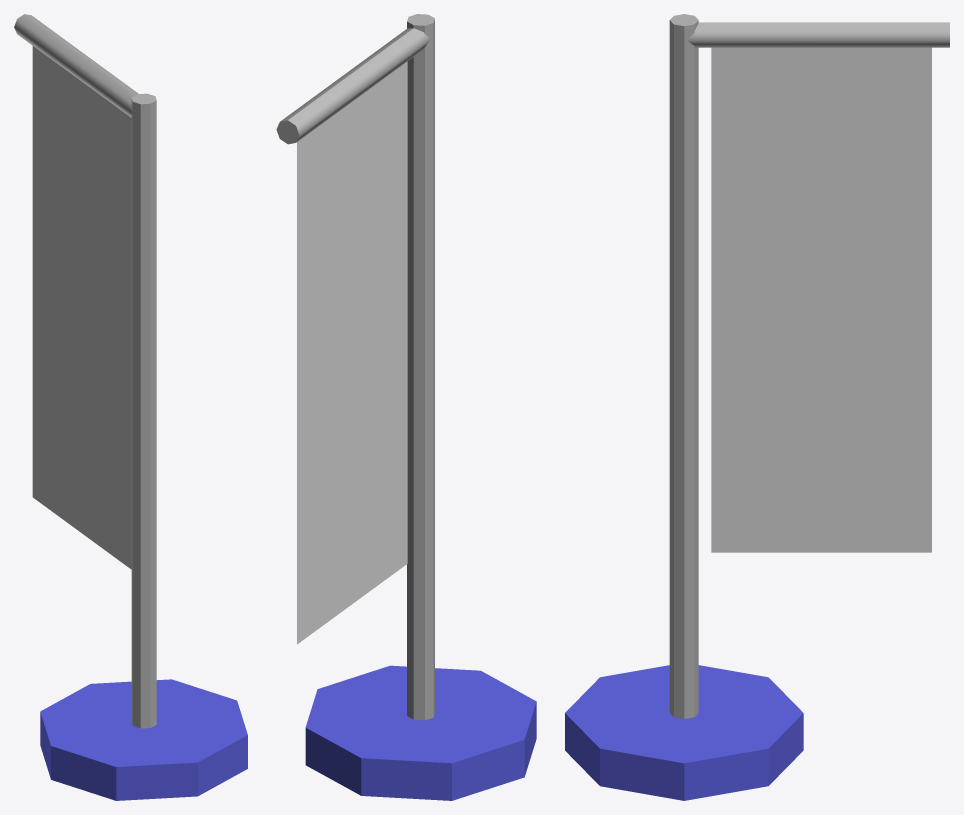
File: poster hanger.fbx
3 renders of one model, left to right at view 1: azimuth 30°, elevation 25°; view 2: azimuth 150°, elevation 25°; view 3: azimuth 270°, elevation 25°, orthographic. The views are drawn at different scales.
Visible parts, largest first — view 1: Plane, Cylinder; view 2: Plane, Cylinder; view 3: Plane, Cylinder.
Boxes of the visible parts, x1,y1,x2,y2 form: Plane: (32, 46, 131, 569); Cylinder: (14, 14, 247, 800); Plane: (297, 61, 407, 644); Cylinder: (276, 14, 536, 800); Plane: (711, 47, 931, 552); Cylinder: (565, 14, 949, 800).
Size of the model in its own units: 612 by 2069 by 988.
